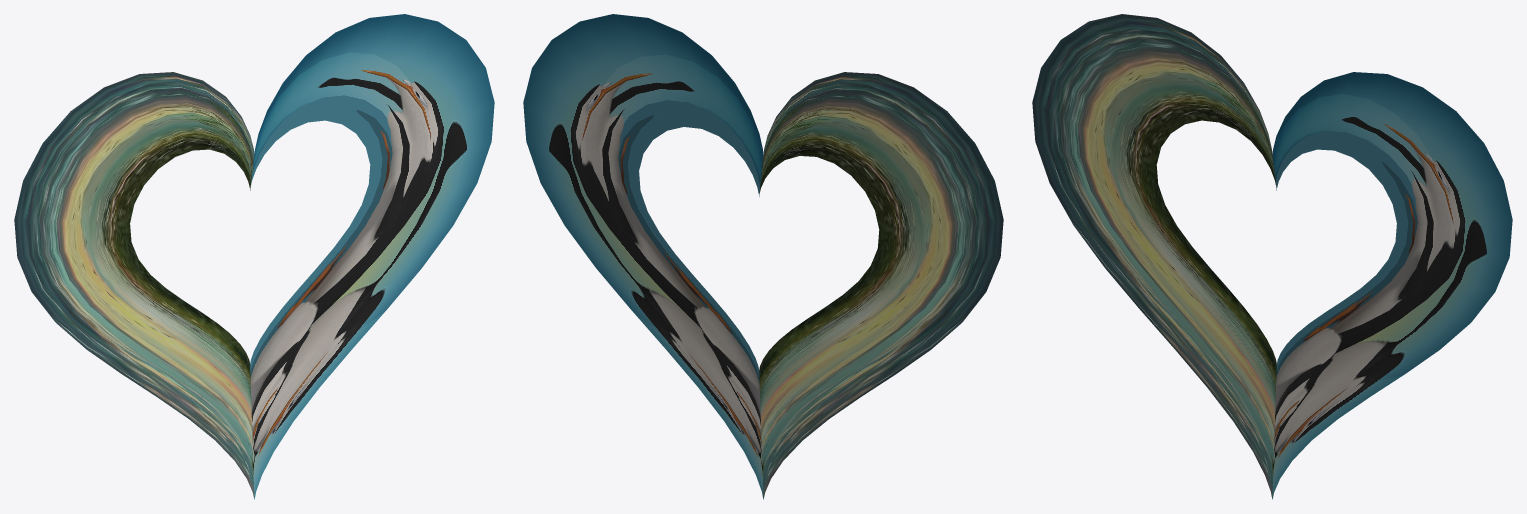
The model's file is heart.obj.
3 views of the same model, side by side, from view 1: azimuth 30°, elevation 25°; view 2: azimuth 150°, elevation 25°; view 3: azimuth 330°, elevation 25° (orthographic).
Bounding box in the file's own units: 95.85 × 86.57 × 1.5.
Materials: 2 (2 with a texture image).
